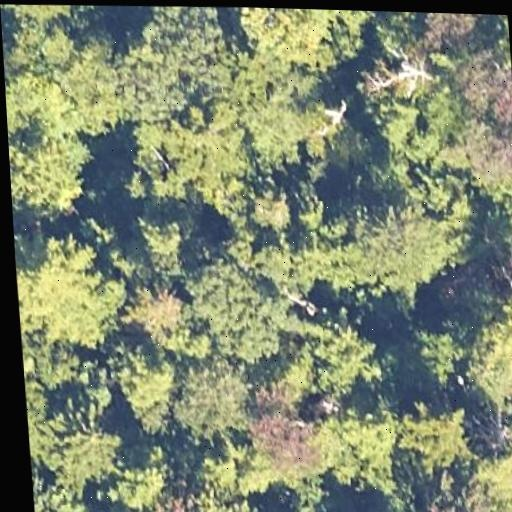tree-top: (13, 220, 140, 349), (177, 247, 300, 370), (4, 63, 102, 215), (57, 33, 200, 135), (128, 100, 258, 211), (349, 186, 468, 294), (235, 59, 340, 172), (227, 7, 377, 71), (312, 406, 415, 499), (163, 350, 261, 444), (453, 45, 512, 199), (453, 265, 512, 413), (108, 331, 184, 444), (131, 5, 231, 87), (34, 403, 130, 485), (391, 399, 482, 485), (188, 427, 280, 508), (308, 322, 394, 403), (367, 88, 457, 164), (244, 402, 324, 479), (292, 215, 364, 298), (399, 313, 474, 391), (1, 15, 78, 85), (105, 449, 184, 512), (125, 206, 197, 268), (25, 387, 67, 472), (30, 462, 97, 512), (470, 442, 512, 512), (246, 179, 296, 237), (134, 281, 184, 338), (418, 12, 494, 43), (0, 2, 102, 24)
